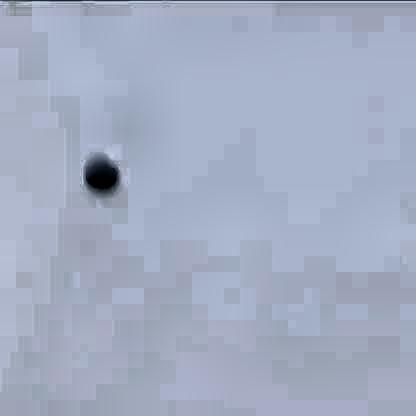golfball: (82, 147, 115, 189)
